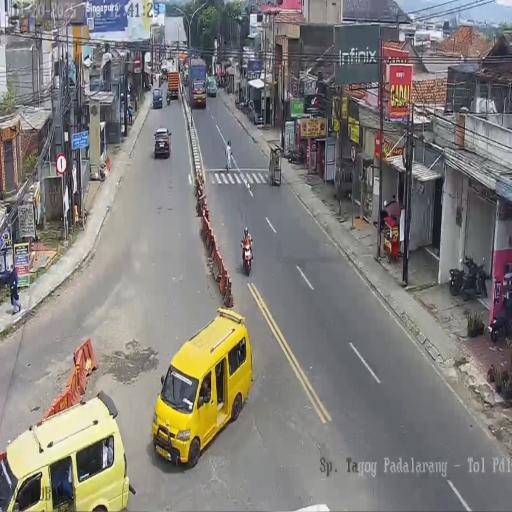3: (187, 60, 207, 110), (166, 70, 180, 102), (144, 52, 152, 85), (183, 65, 189, 85)
car: (152, 308, 252, 467), (0, 391, 132, 511), (154, 126, 172, 158), (152, 88, 163, 109), (207, 77, 217, 97), (161, 66, 168, 80)
truck: (488, 300, 511, 342), (449, 261, 467, 296), (241, 234, 253, 276), (248, 100, 263, 125), (287, 145, 302, 165), (238, 98, 250, 114), (216, 76, 222, 88), (166, 91, 171, 105)
